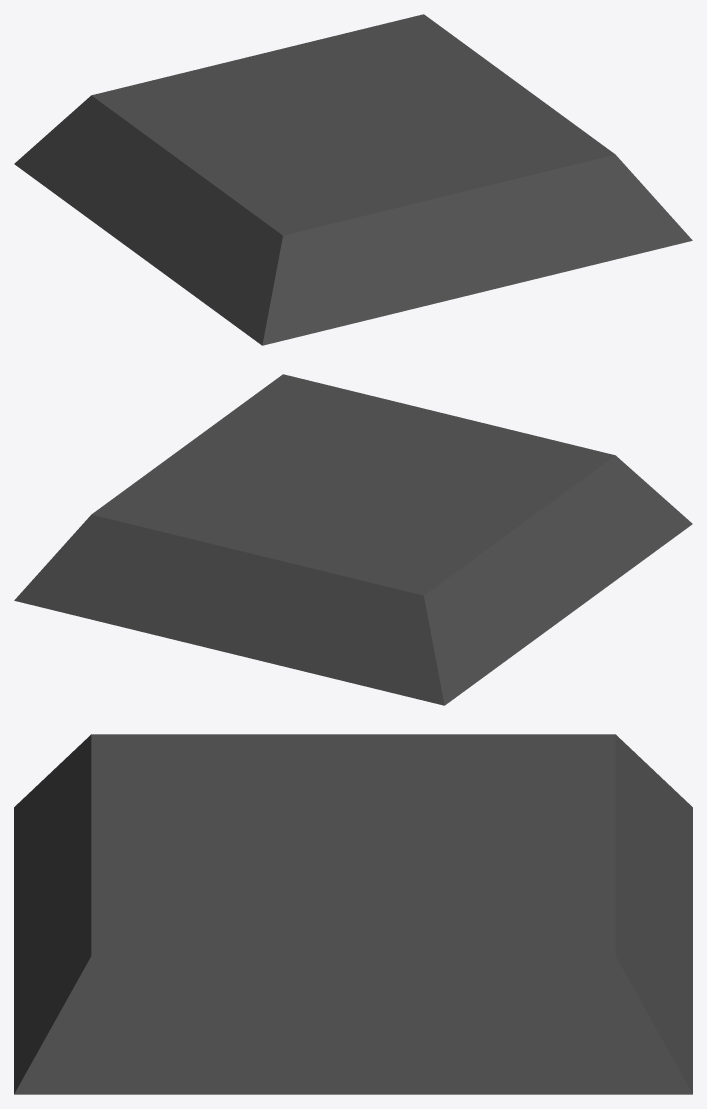
File: Itr_Obj_Monitor_CRT_Base_05.FBX
3 renders of one model, top to bottom at view 1: azimuth 30°, elevation 25°; view 2: azimuth 150°, elevation 25°; view 3: azimuth 270°, elevation 25°, orthographic. The views are drawn at different scales.
Parts seen in each view (by area): view 1: Itr_Obj_Monitor_CRT_Base_05; view 2: Itr_Obj_Monitor_CRT_Base_05; view 3: Itr_Obj_Monitor_CRT_Base_05.
Boxes of the visible parts, x1,y1,x2,y2 form: Itr_Obj_Monitor_CRT_Base_05: [14, 14, 692, 345]; Itr_Obj_Monitor_CRT_Base_05: [14, 374, 692, 705]; Itr_Obj_Monitor_CRT_Base_05: [14, 734, 692, 1094].
Size of the model in its own units: 12.64 by 2.17 by 12.62.
